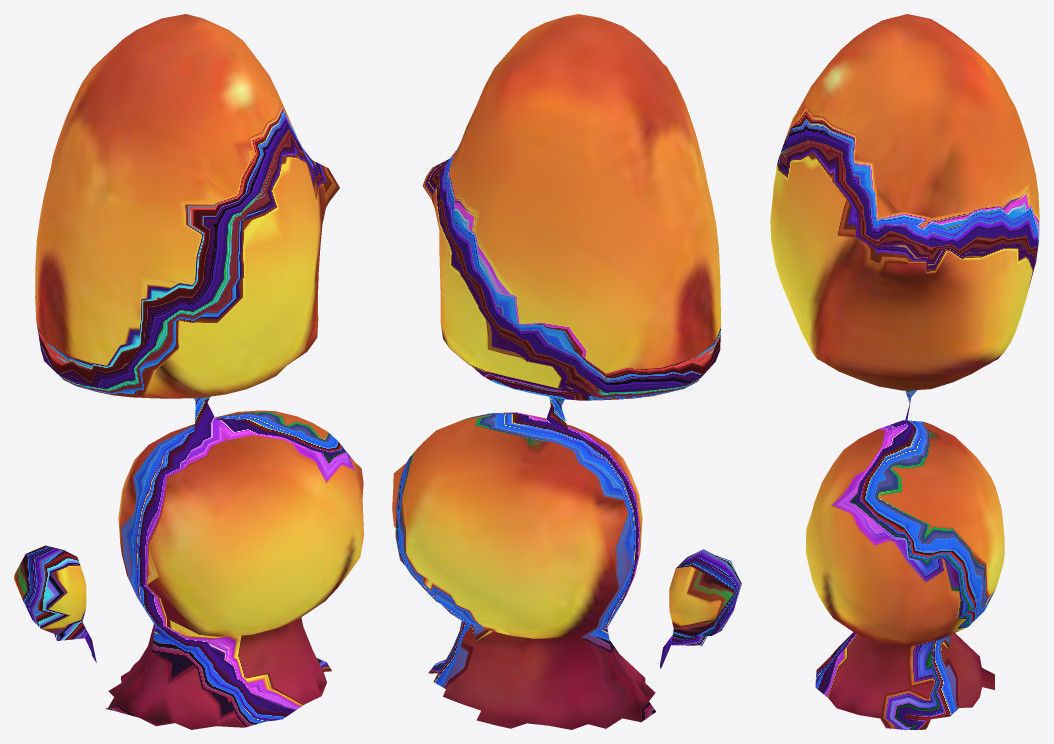
3 views of the same model, side by side, from view 1: azimuth 30°, elevation 25°; view 2: azimuth 150°, elevation 25°; view 3: azimuth 270°, elevation 25° (orthographic). The views are drawn at different scales.
Parts seen in each view (by area): view 1: model.006; view 2: model.006; view 3: model.006.
Boxes of the visible parts, bbox=[...] form: model.006: bbox=[14, 14, 363, 729]; model.006: bbox=[392, 14, 741, 729]; model.006: bbox=[770, 14, 1039, 729].
Size of the model in its own units: 0.6192 by 1.2 by 0.4514.
Materials: 1 (1 with a texture image).
